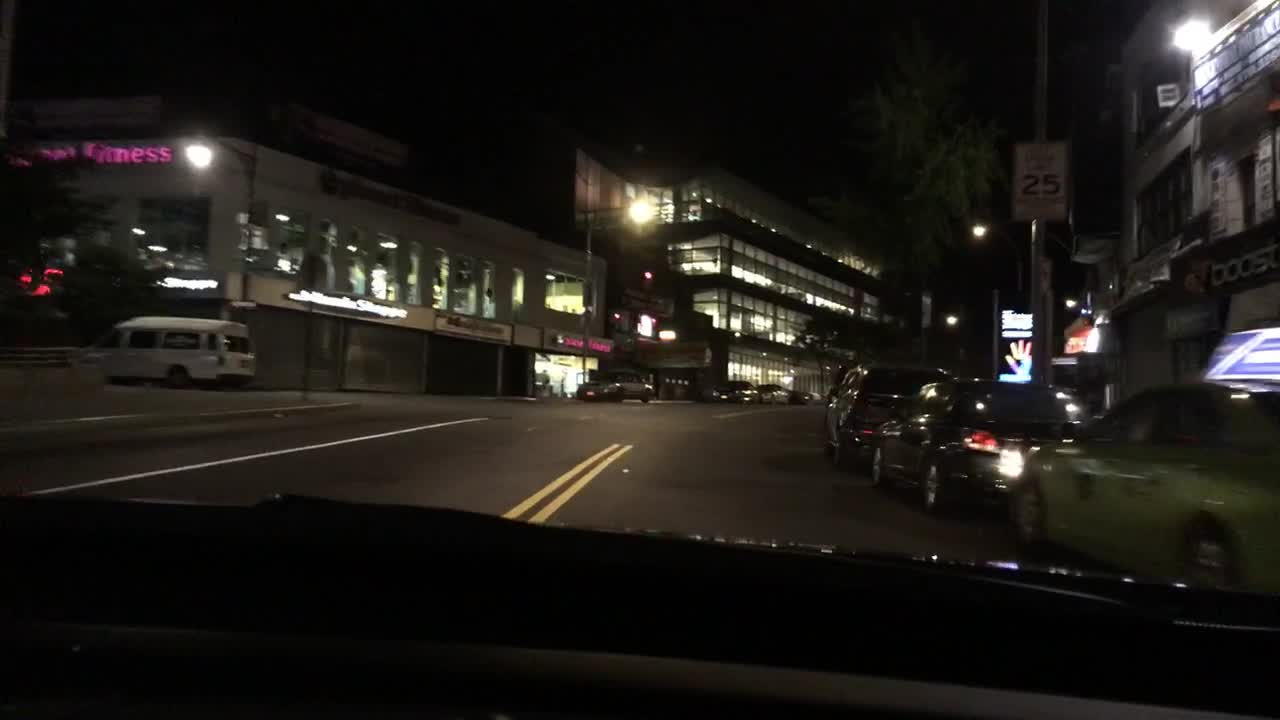car: (1008, 378, 1277, 594), (865, 373, 1078, 519), (824, 360, 961, 476), (101, 316, 258, 392), (576, 366, 658, 402), (704, 375, 758, 402), (755, 382, 794, 403), (798, 388, 827, 404)
traffic sign: (1013, 140, 1070, 214)
